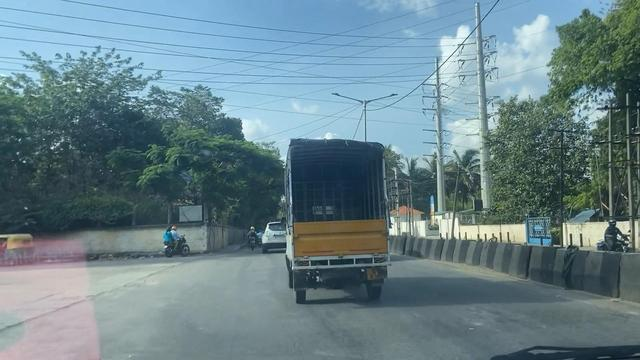HMV: (283, 139, 391, 302)
RoadDamages: (11, 261, 184, 329)
